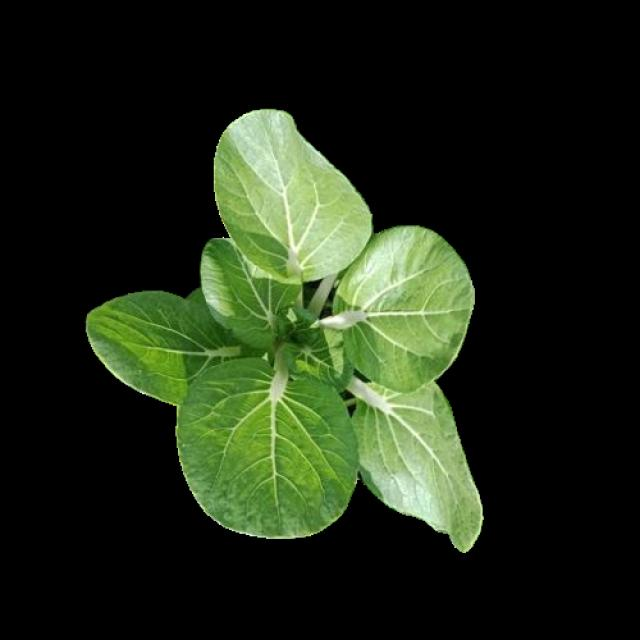healthy: (99, 133, 481, 545)
not-mature: (90, 112, 483, 548)
